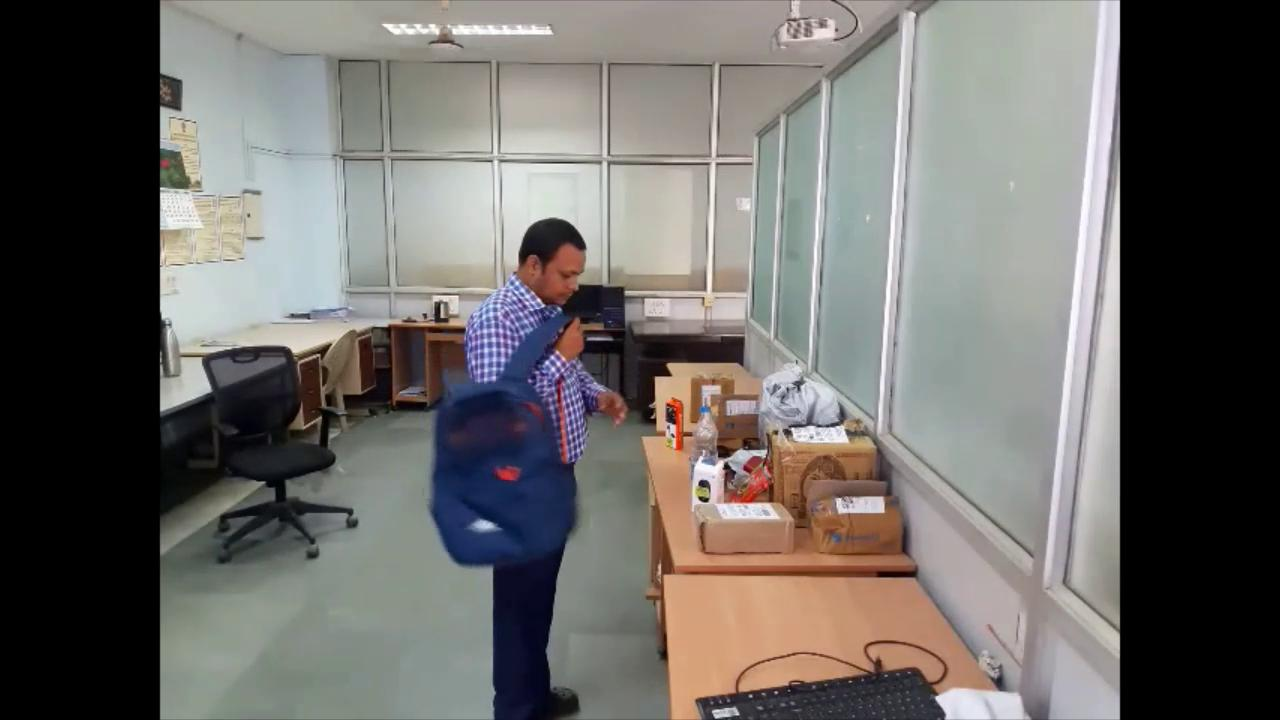shoplifting: (413, 202, 608, 716)
